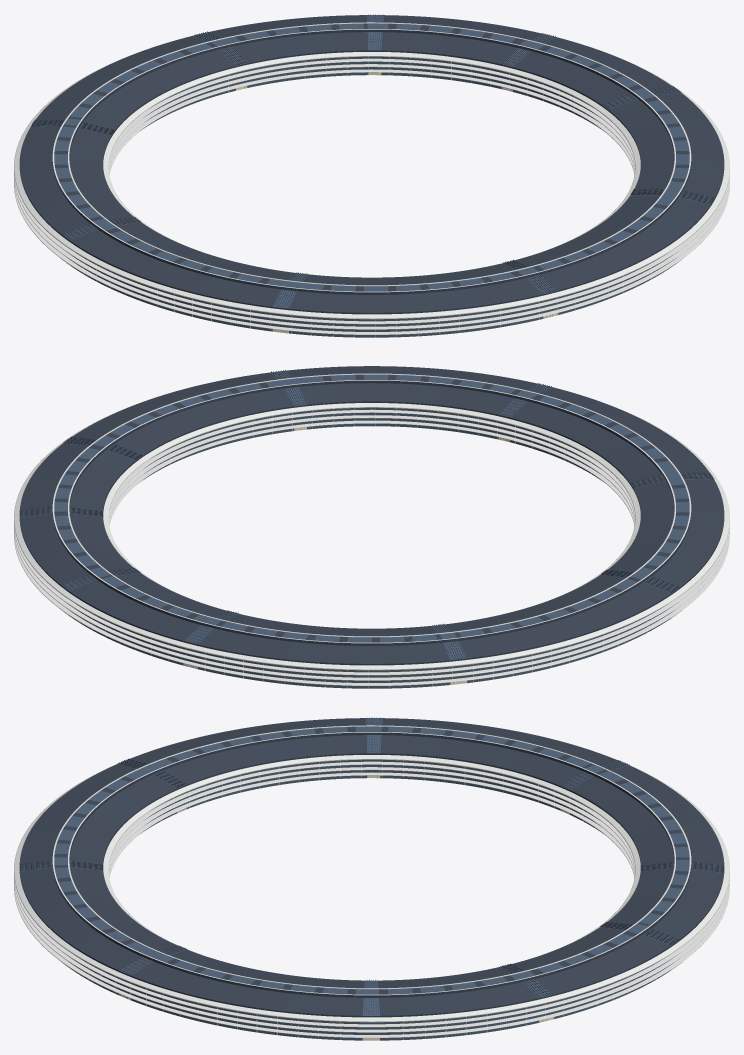
Rendered from sf-apple-park.detail.glb.
The picture shows the model from 3 angles, top to bottom: view 1: azimuth 30°, elevation 25°; view 2: azimuth 150°, elevation 25°; view 3: azimuth 270°, elevation 25°; orthographic projection.
Visible parts, largest first — view 1: Apple Park; view 2: Apple Park; view 3: Apple Park.
Part boxes in pixels (left/top/right/bottom): Apple Park: left=14, top=14, right=729, bottom=337; Apple Park: left=14, top=366, right=729, bottom=688; Apple Park: left=14, top=717, right=729, bottom=1040.
Size of the model in its own units: 471 by 22.75 by 471.
